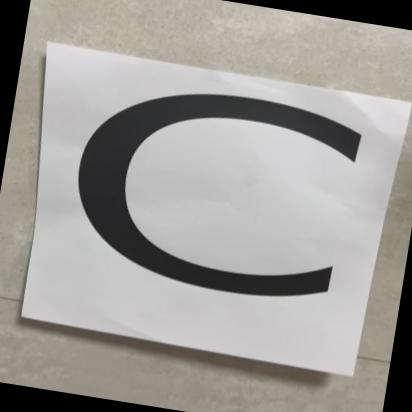seat: (9, 28, 403, 372)
